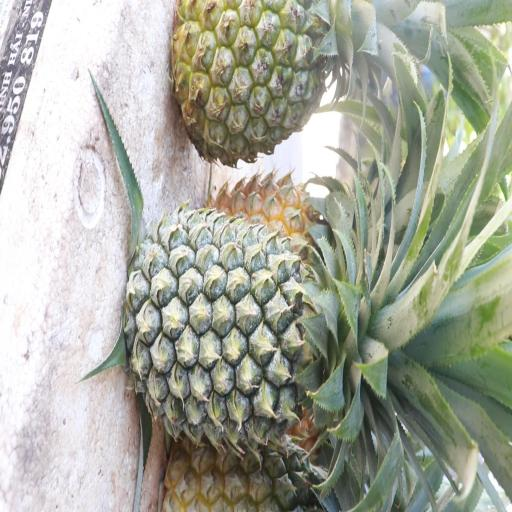------------------------------: (169, 0, 344, 159)
